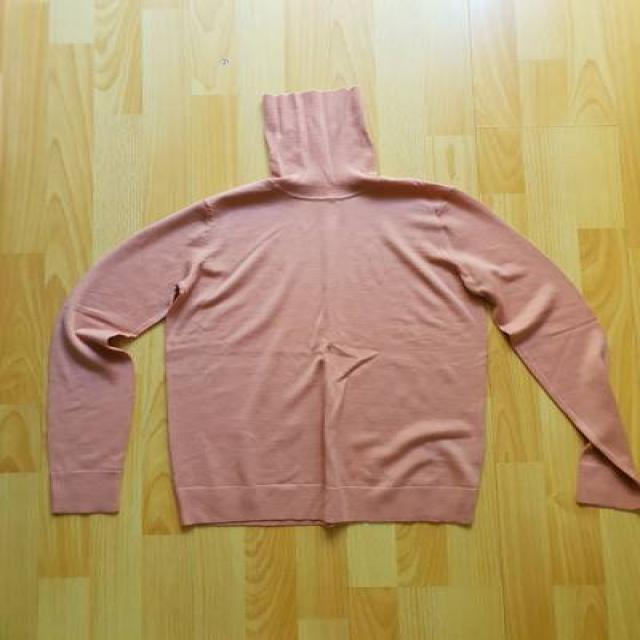Clothes -Biodegradable-: (45, 88, 640, 531)
